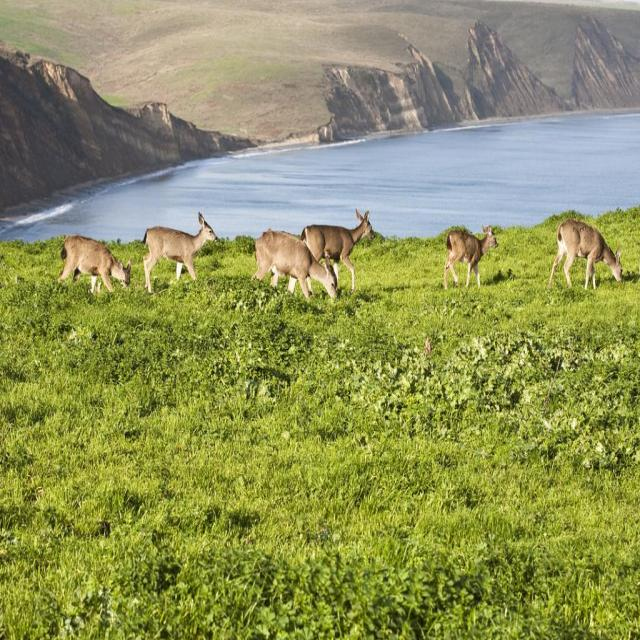Deer: (300, 210, 376, 293), (254, 231, 339, 305), (142, 210, 217, 288), (550, 218, 622, 288), (59, 237, 132, 294), (445, 228, 497, 291)
